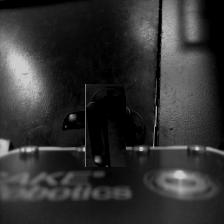Door Handle: (74, 94, 137, 157)
